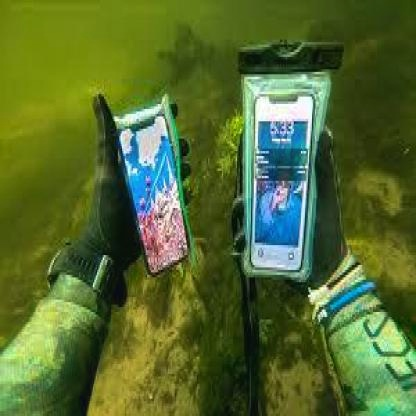cellphone: (116, 111, 193, 275), (251, 90, 316, 272)
